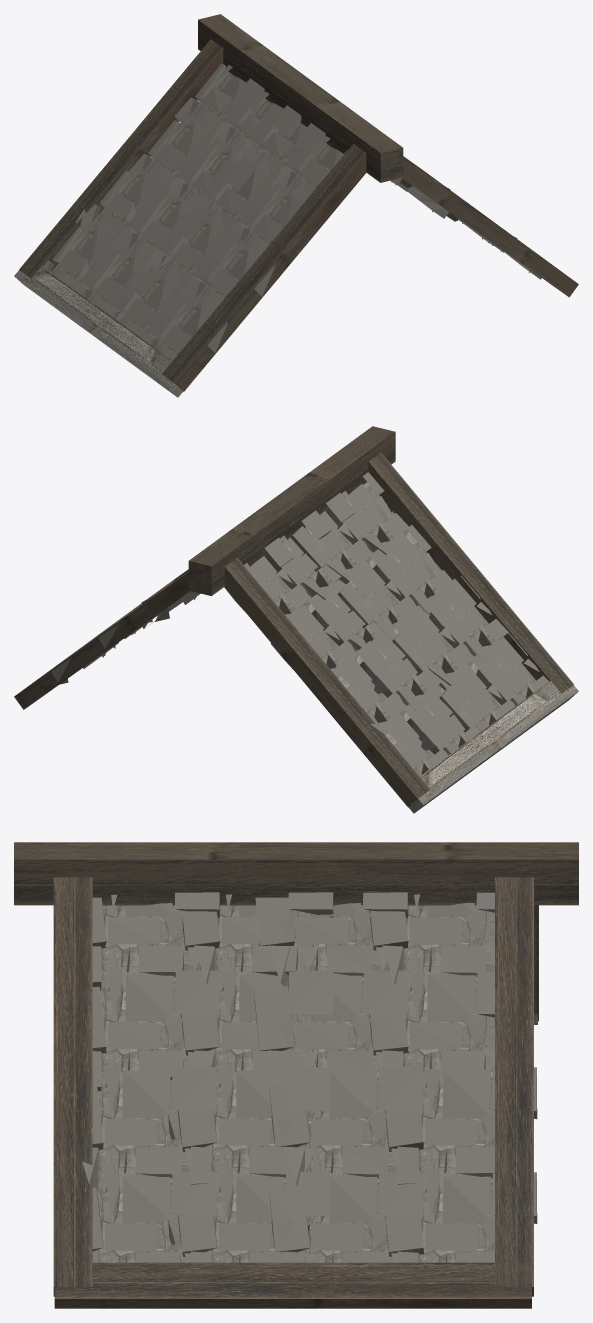
Rendered from Roof.fbx.
3 views of the same model, one above another, from view 1: azimuth 30°, elevation 25°; view 2: azimuth 150°, elevation 25°; view 3: azimuth 270°, elevation 25° (orthographic). The views are drawn at different scales.
Parts seen in each view (by area): view 1: Plane.102, Cube.034, Cube.032, Cube.029, Cube.033, Cube.035, Plane.104; view 2: Plane.102, Cube.034, Cube.029, Cube.032, Cube.033, Cube.036, Plane.104; view 3: Plane.104, Cube.034, Cube.037, Cube.035, Cube.036.
Boxes of the visible parts, left/top/right/bottom form: Plane.102: left=43, top=63, right=347, bottom=360; Cube.034: left=198, top=14, right=403, bottom=182; Cube.032: left=162, top=143, right=366, bottom=391; Cube.029: left=19, top=39, right=223, bottom=278; Cube.033: left=14, top=266, right=182, bottom=397; Cube.035: left=402, top=159, right=573, bottom=293; Plane.104: left=390, top=158, right=541, bottom=279; Plane.102: left=224, top=472, right=548, bottom=776; Cube.034: left=188, top=426, right=395, bottom=595; Cube.029: left=224, top=557, right=430, bottom=807; Cube.032: left=368, top=452, right=573, bottom=693; Cube.033: left=408, top=681, right=578, bottom=813; Cube.036: left=19, top=572, right=189, bottom=706; Plane.104: left=51, top=571, right=200, bottom=684; Plane.104: left=82, top=892, right=537, bottom=1262; Cube.034: left=14, top=842, right=578, bottom=905; Cube.037: left=54, top=1262, right=531, bottom=1308; Cube.035: left=53, top=877, right=92, bottom=1296; Cube.036: left=495, top=877, right=533, bottom=1296.
Bounding box in the file's own units: 642 × 315 × 497.
